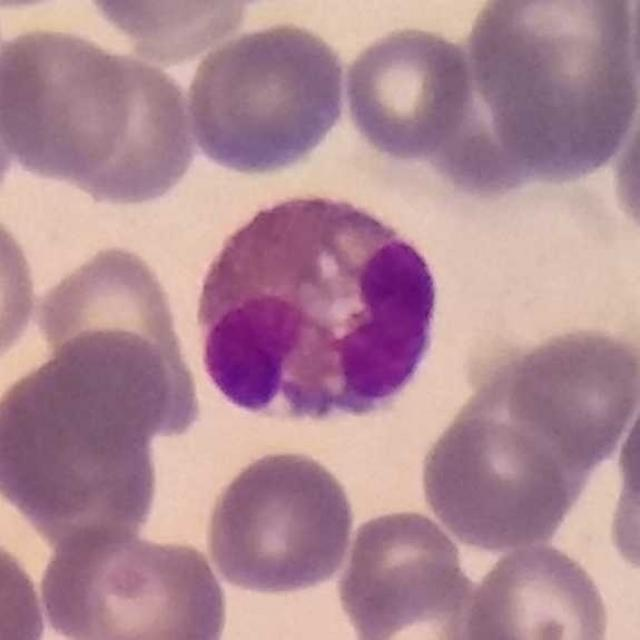Eosinophil: (187, 172, 448, 430)
RBC: (0, 328, 173, 532), (30, 237, 203, 438), (463, 0, 640, 183), (180, 17, 353, 179), (44, 44, 200, 212), (414, 396, 579, 553), (202, 444, 358, 599), (35, 524, 232, 640), (1, 21, 139, 184), (338, 20, 478, 160), (502, 322, 639, 463), (333, 504, 470, 637), (459, 538, 614, 640), (343, 564, 506, 640), (80, 0, 258, 48), (0, 203, 42, 378), (604, 414, 640, 583), (607, 78, 640, 255), (0, 532, 52, 640), (612, 376, 640, 521)
